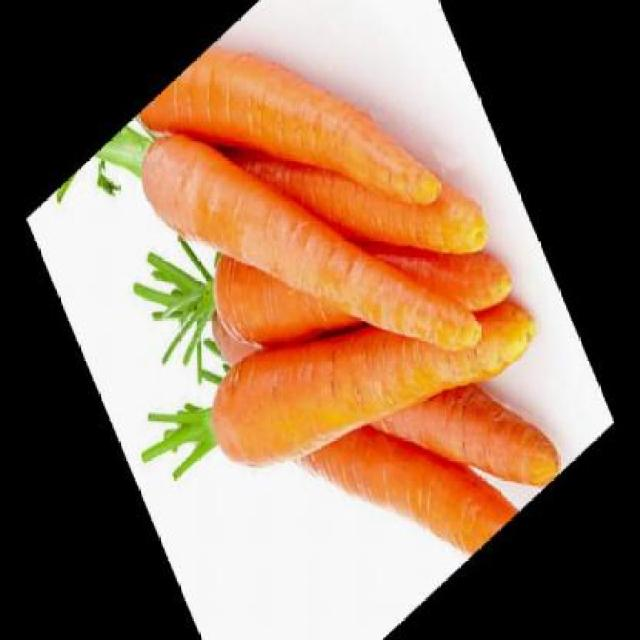carrot: (130, 0, 482, 523), (198, 151, 540, 586), (202, 63, 513, 491), (137, 0, 443, 371), (214, 0, 494, 400), (291, 302, 538, 638), (370, 303, 562, 583)
